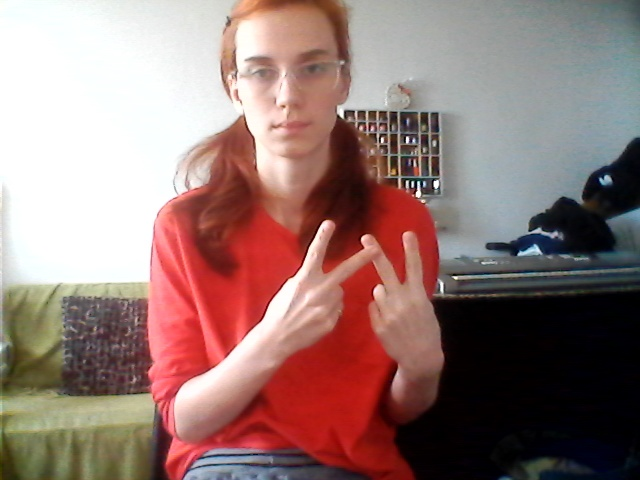w: (266, 215, 461, 372)
